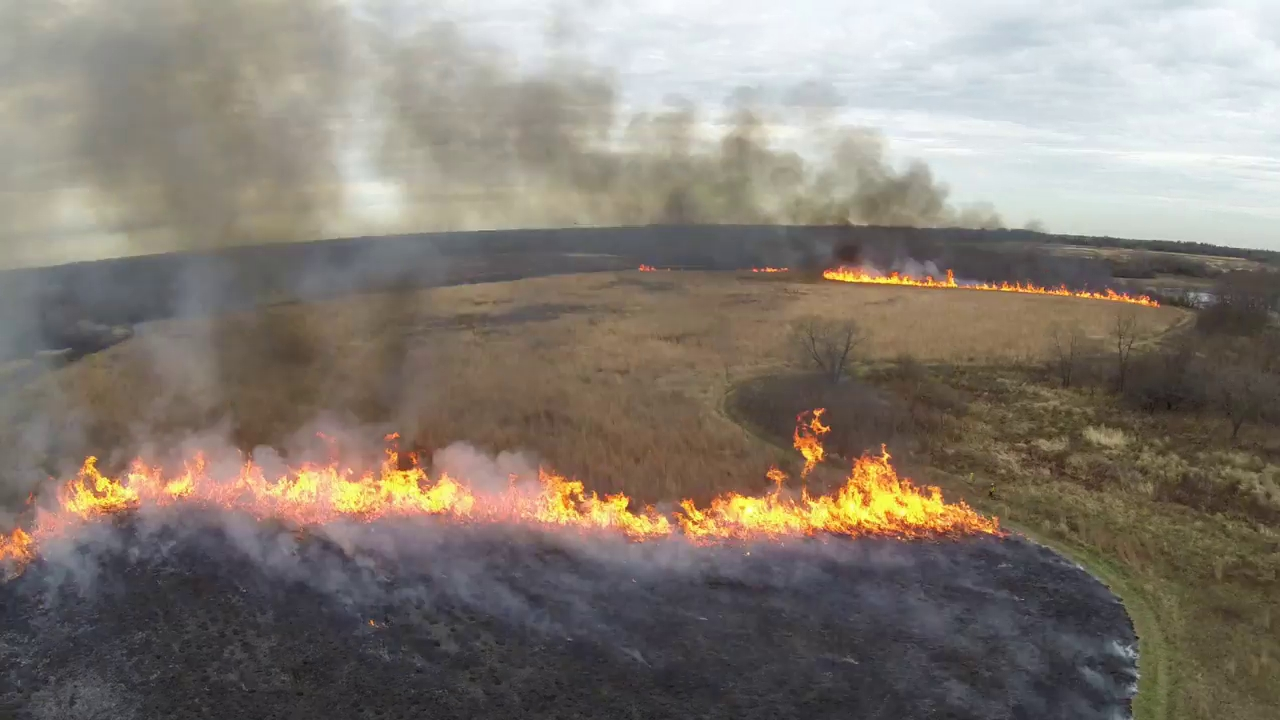forest_fire: (0, 435, 1000, 571), (823, 265, 1158, 306), (793, 409, 829, 475), (752, 266, 788, 273), (639, 265, 656, 271)
